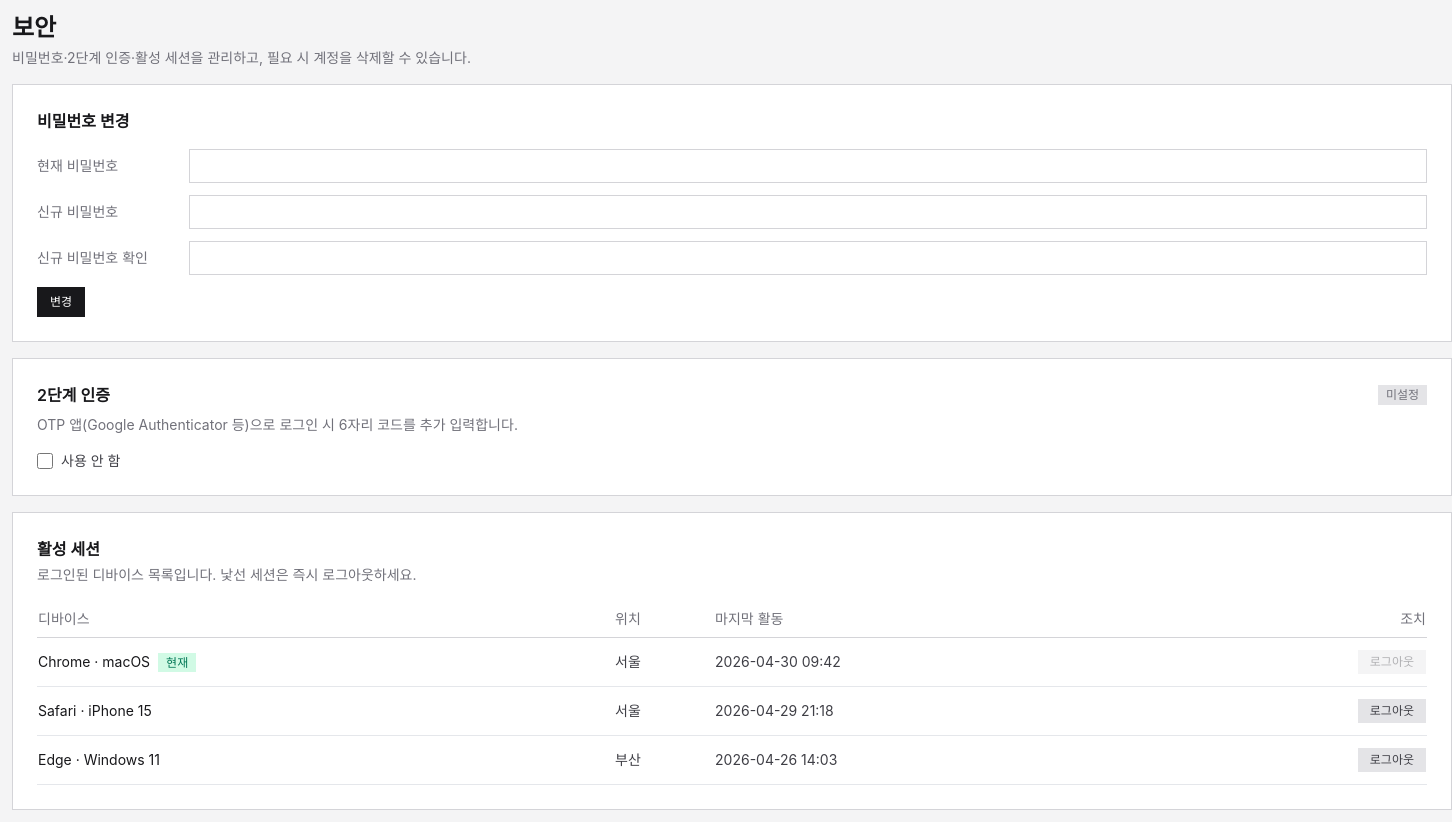
SecurityPage › 2FA toggle changes status pill
expect the heading "2단계 인증" is shown: met, box [37,383,110,407]
expect the text "미설정" is shown: met, box [1378,385,1427,405]
What coordinates should you click on to do the following:
click the switch named "2단계 인증 사용"
I would click on:
 (45, 461)
Its box is [37,453,53,469].
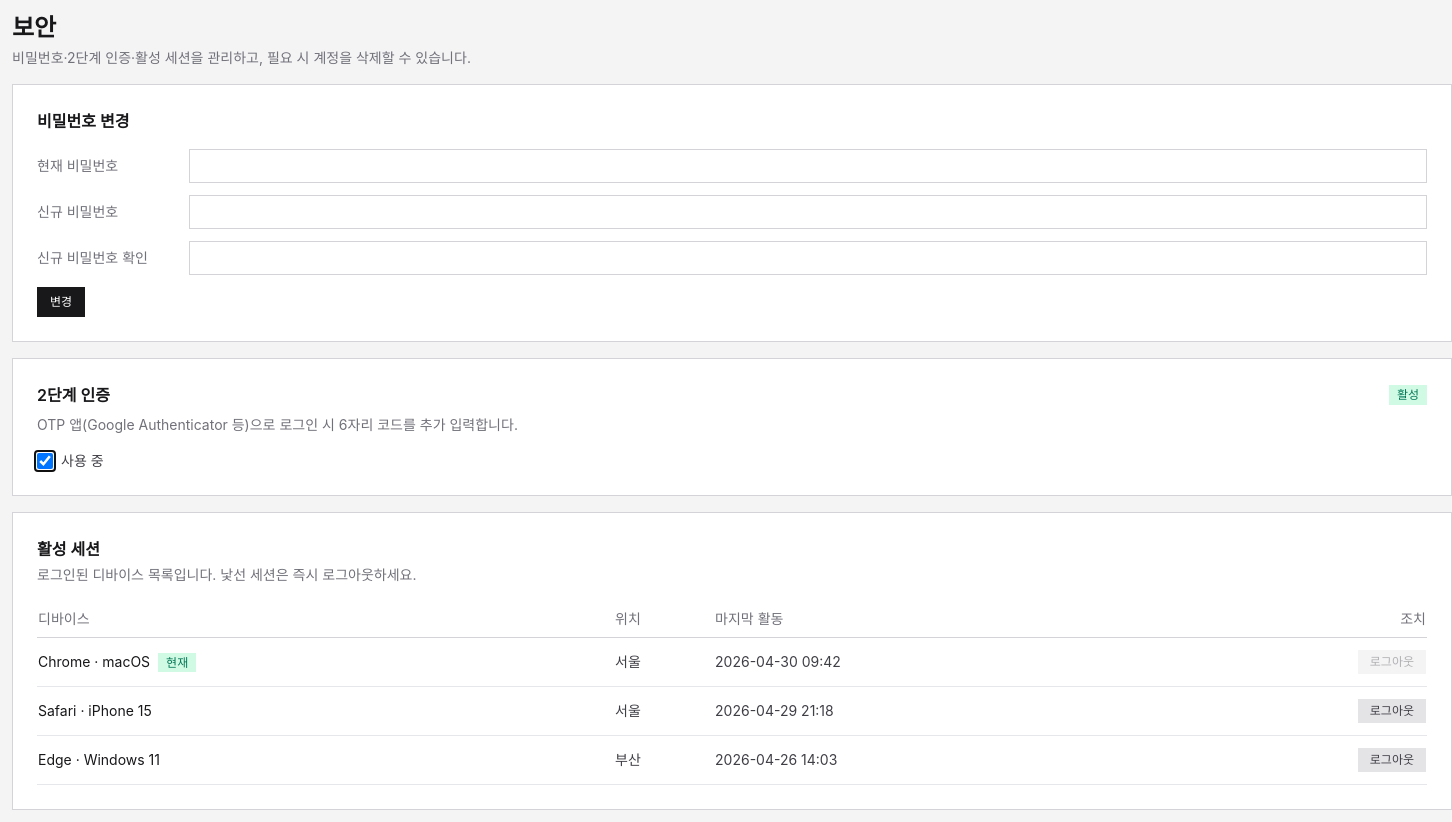
expect the text "활성" is shown: met, box [1389,385,1427,405]
